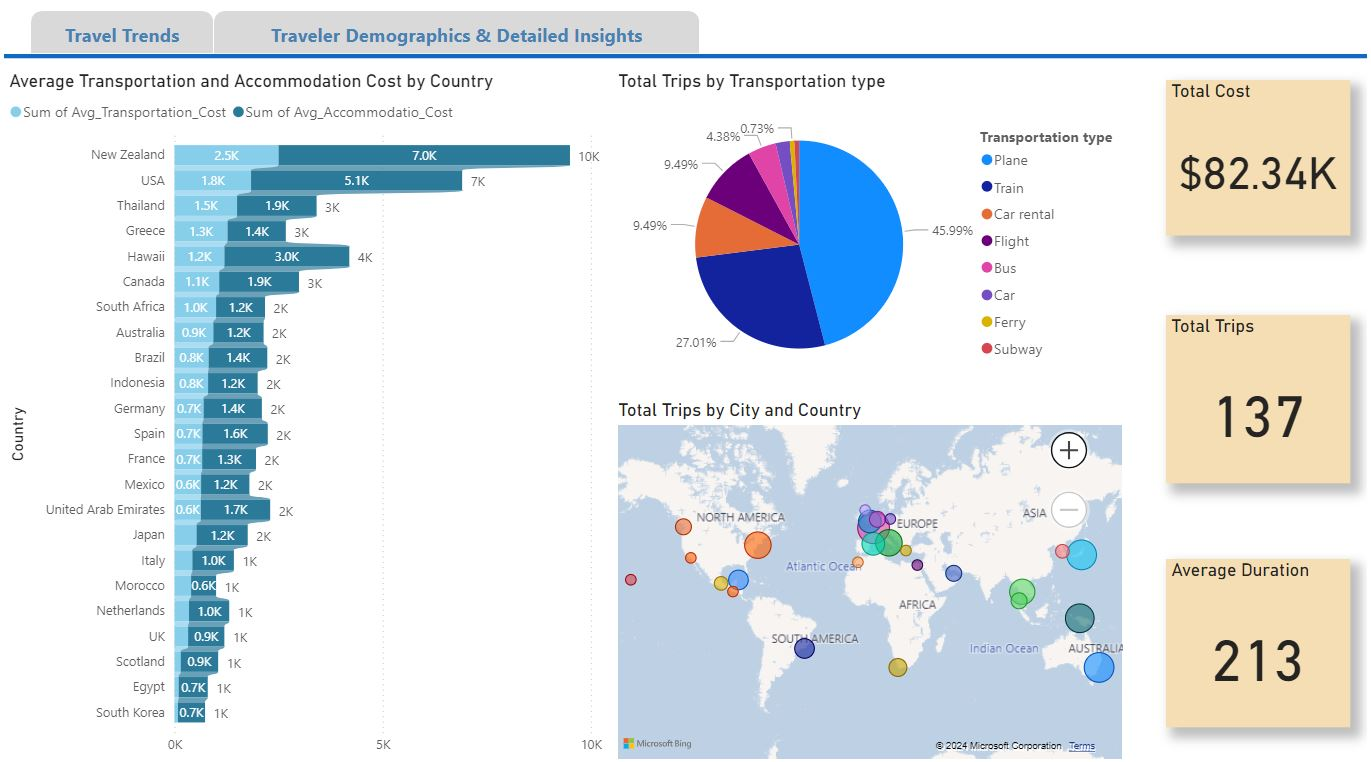

The page's visual inventory and layout, read from the dashboard file:
{"tool":"powerbi","page":{"name":"Travel Trends","canvas":[1280,720],"ordinal":0},"visuals":[{"type":"shape","box":[0,33.8,1280,43.4],"z":0},{"type":"actionButton","box":[25.6,13.3,171.1,40],"z":1000},{"type":"actionButton","box":[196.7,13.3,455.6,40],"z":2000},{"type":"map","title":"Total Trips by City and Country","fields":{"Category":["Query1.City"],"Size":["Sum(Query1.Total_Trips)"],"Series":["Query1.Country"]},"box":[571.2,377.5,482.5,342.5],"z":3000},{"type":"pieChart","title":"Total Trips by Transportation type","fields":{"Category":["Query3.Transportation_type"],"Y":["Sum(Query3.Total_Trips)"]},"box":[571.2,68.8,487.5,308.8],"z":4000},{"type":"barChart","title":"Average Transportation and Accommodation Cost by Country","fields":{"Category":["Query2.Country"],"Y":["Sum(Query2.Avg_Transportation_Cost)","Sum(Query2.Avg_Accommodatio_Cost)"]},"box":[0,68.8,570.6,651.5],"z":5000},{"type":"card","title":"Total Trips","fields":{"Values":["Sum(Query1.Total_Trips)"]},"box":[1091.2,298.8,172.5,157.5],"z":6000},{"type":"card","title":"Average Duration","fields":{"Values":["Sum(Query5.Avg_Duration)"]},"box":[1091.2,527.5,172.5,157.5],"z":7000},{"type":"card","title":"Total Cost","fields":{"Values":["Sum(Query6.Total_Trip_Cost)"]},"box":[1091.2,77.5,172.5,146.2],"z":8000}]}

Visuals, with their boxes in screenshot pixels (x1, y1, x2, y2), scaled from the page's 1280x720 canvas onto the 1371x762 screenshot:
shape: x1=0, y1=36, x2=1370, y2=82
actionButton: x1=27, y1=14, x2=211, y2=56
actionButton: x1=211, y1=14, x2=699, y2=56
"Total Trips by City and Country" map: x1=612, y1=400, x2=1129, y2=761
"Total Trips by Transportation type" pieChart: x1=612, y1=73, x2=1134, y2=400
"Average Transportation and Accommodation Cost by Country" barChart: x1=0, y1=73, x2=611, y2=761
"Total Trips" card: x1=1169, y1=316, x2=1354, y2=483
"Average Duration" card: x1=1169, y1=558, x2=1354, y2=725
"Total Cost" card: x1=1169, y1=82, x2=1354, y2=237
